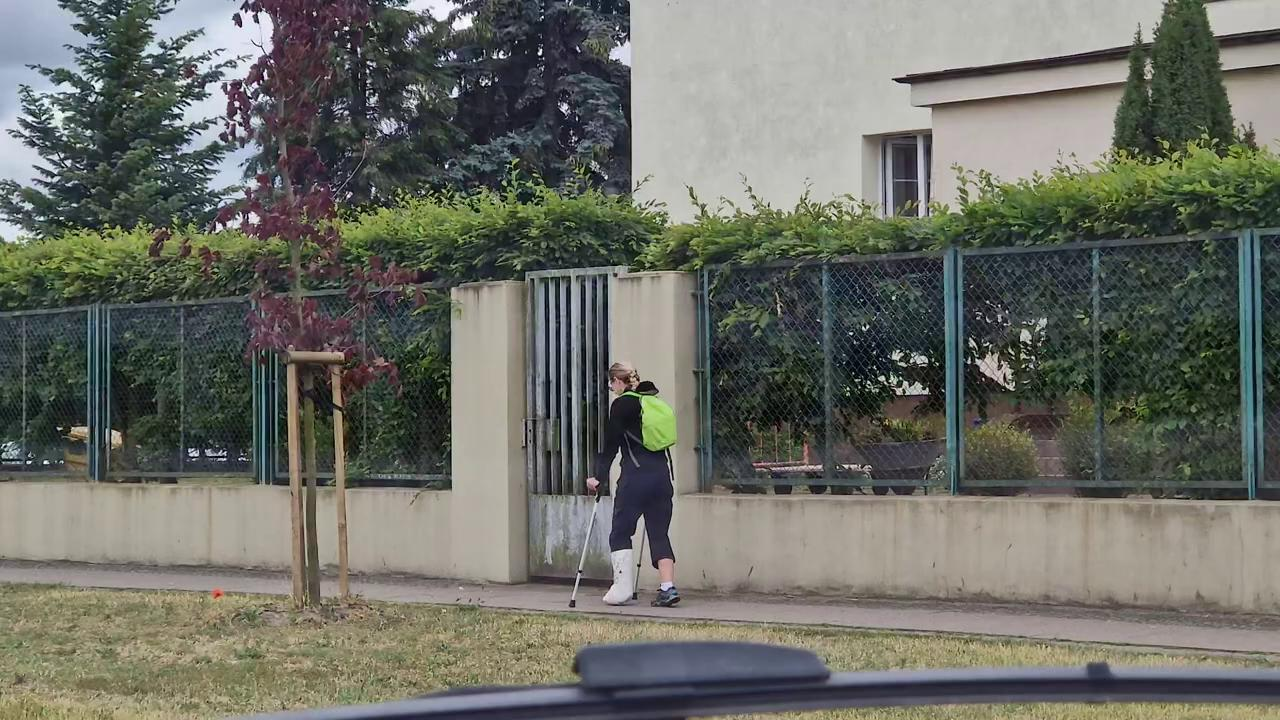crutches: (568, 361, 681, 607)
